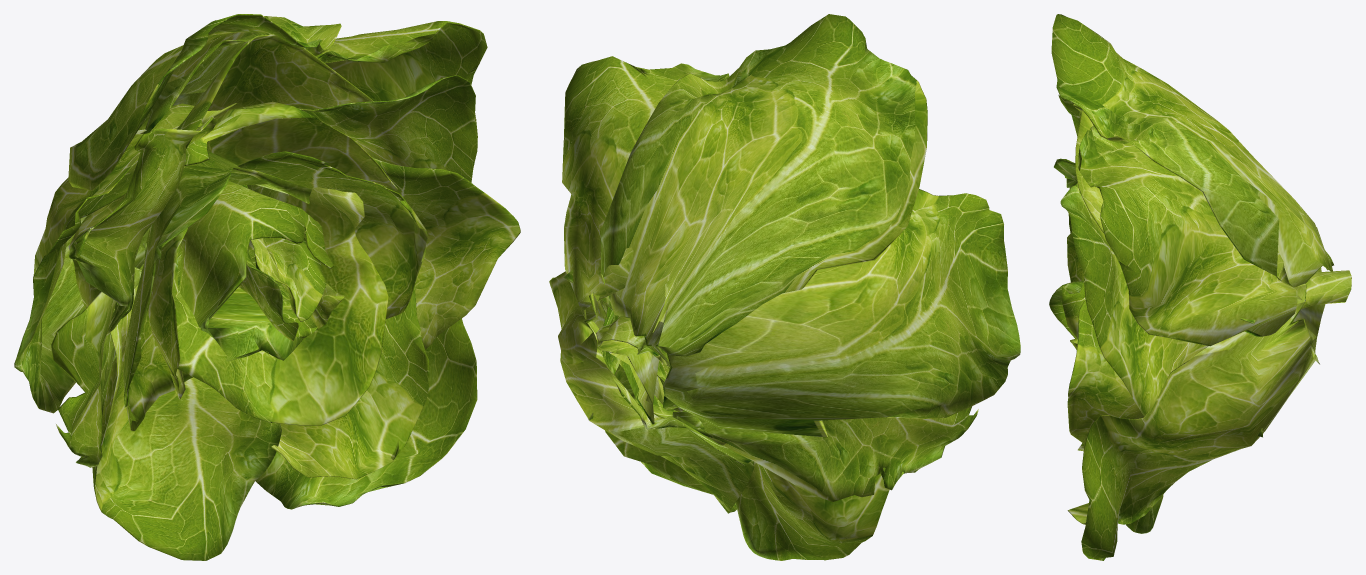
The model's file is lattuga3.obj.
3 renders of one model, left to right at view 1: azimuth 30°, elevation 25°; view 2: azimuth 150°, elevation 25°; view 3: azimuth 270°, elevation 25°, orthographic. The views are drawn at different scales.
Parts seen in each view (by area): view 1: plant_Plane.027; view 2: plant_Plane.027; view 3: plant_Plane.027.
Part boxes in pixels (x1,y1,x2,y2): plant_Plane.027: (14,14,520,560); plant_Plane.027: (549,14,1020,560); plant_Plane.027: (1049,14,1351,560).
Bounding box in the file's own units: 0.4784 × 0.5303 × 0.2879.
